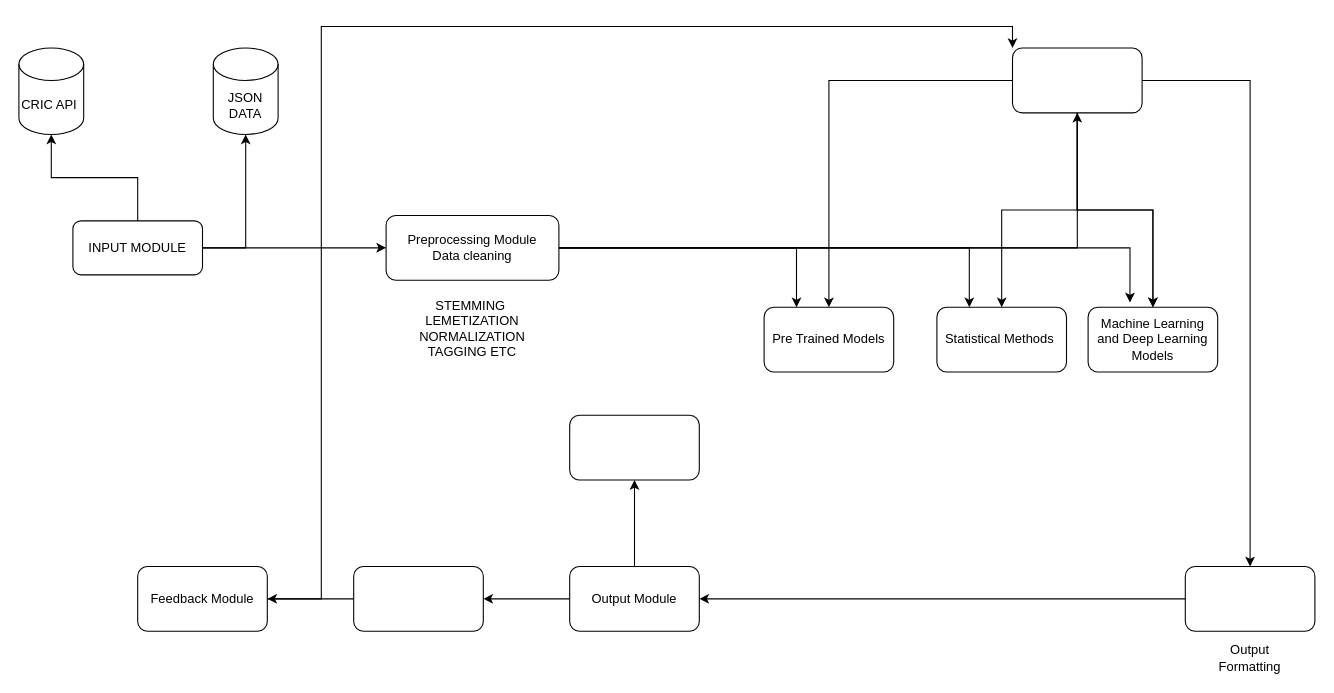
Image size: 1334x693. Some labels were removed from this diagram. The centre of each missing label's shape, as x and y in pixels:
"File/UI Writing Module" belongs at point (634, 447).
"Logging Module" belongs at point (418, 598).
"Post Processing Module" belongs at point (1249, 598).
"Summarization Module" belongs at point (1076, 80).
